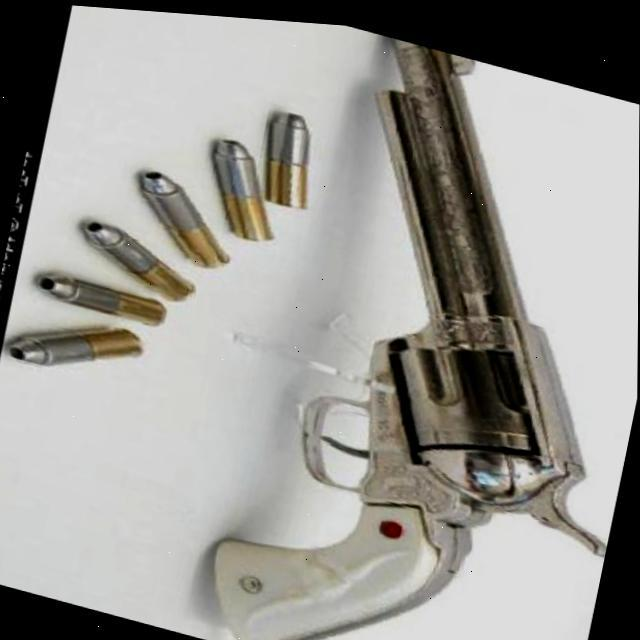gun: (198, 12, 640, 640)
